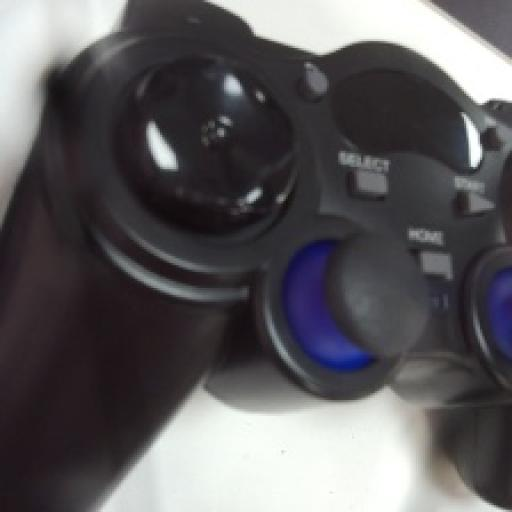game pad: (0, 0, 507, 510)
